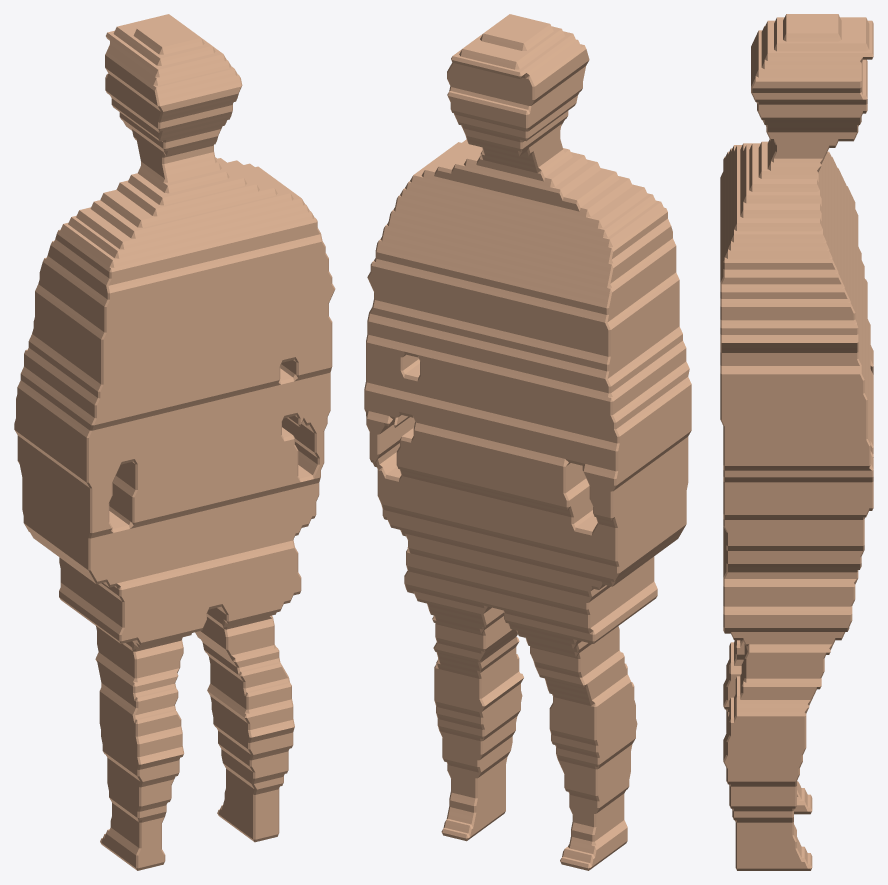
The model's file is body_1771607578.obj.
3 renders of one model, left to right at view 1: azimuth 30°, elevation 25°; view 2: azimuth 150°, elevation 25°; view 3: azimuth 270°, elevation 25°, orthographic. The views are drawn at different scales.
Bounding box in the file's own units: 0.5984 × 1.84 × 0.315.
